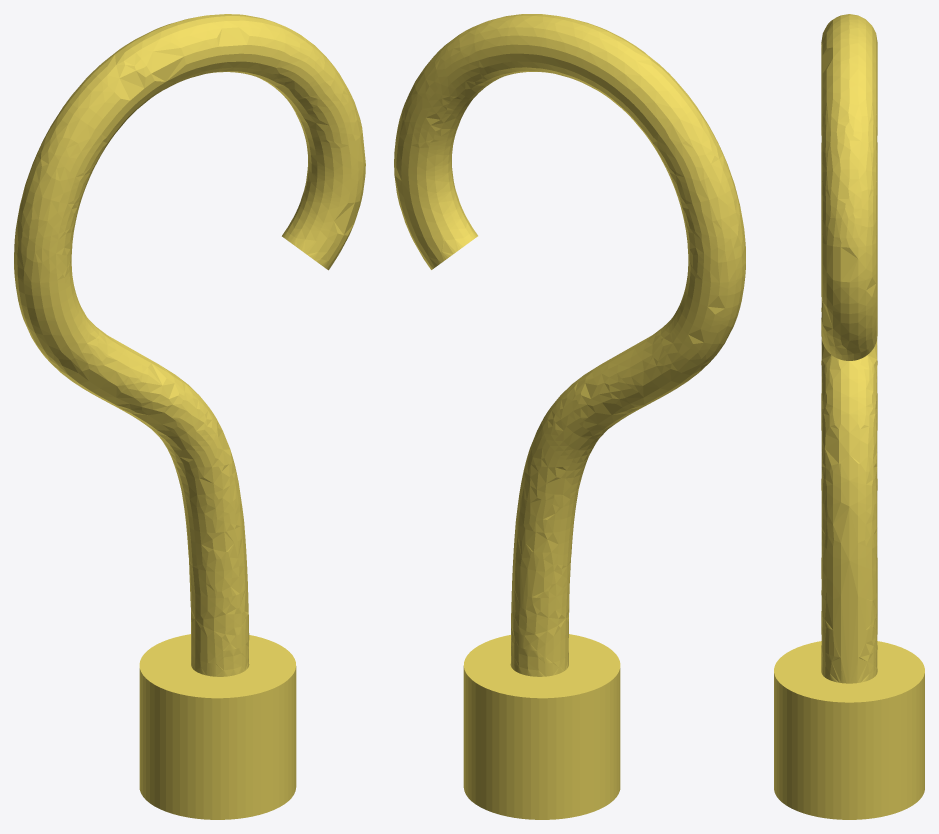
The model's file is engine-oil-dipstick-handle.glb.
The picture shows the model from 3 angles, left to right: view 1: azimuth 30°, elevation 25°; view 2: azimuth 150°, elevation 25°; view 3: azimuth 270°, elevation 25°; orthographic projection. The views are drawn at different scales.
Parts seen in each view (by area): view 1: world; view 2: world; view 3: world.
Part boxes in pixels (box(x1,y1,x2,y2)): world: box(14, 14, 365, 819); world: box(394, 14, 745, 819); world: box(774, 14, 924, 819).
Size of the model in its own units: 0.0356 by 0.0761 by 0.014.
